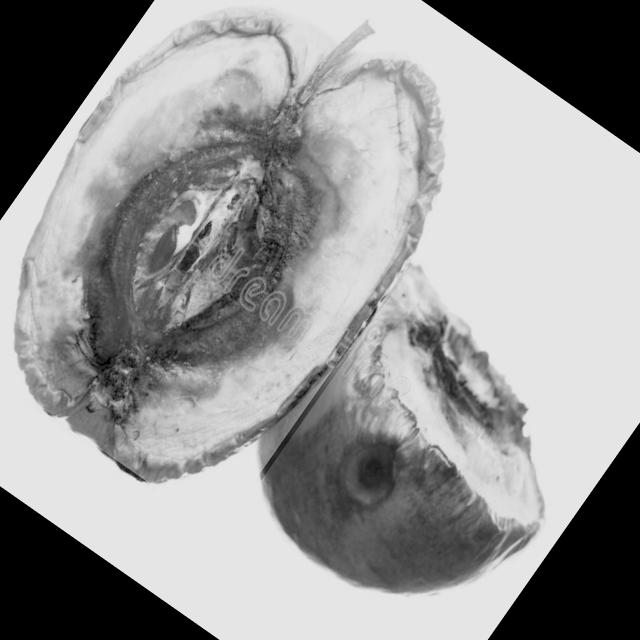Food waste: (0, 0, 512, 532), (221, 195, 640, 640)
